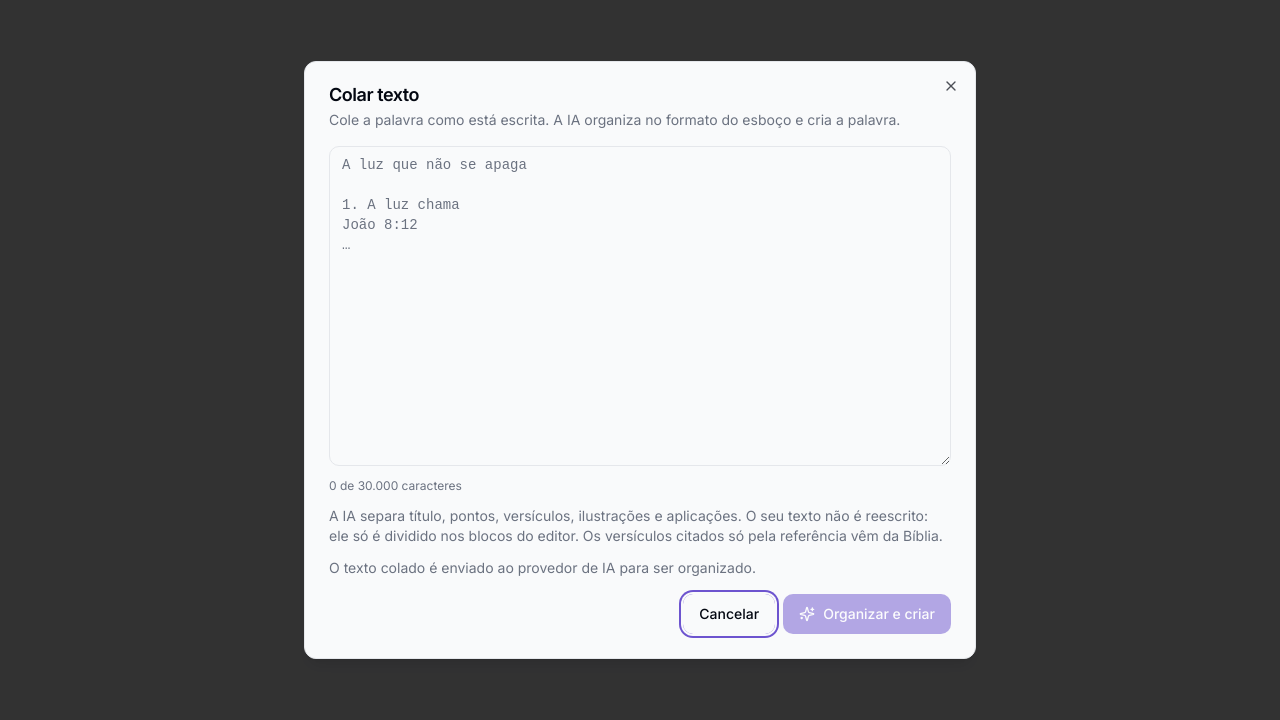
Test: PasteTextDialog › mostra a mensagem do servidor e mantém o texto
This screenshot has width=1280, height=720.
Type "A luz" into the text box named "Texto da palavra" at (640, 306), box x1=329 y1=146 x2=951 y2=466
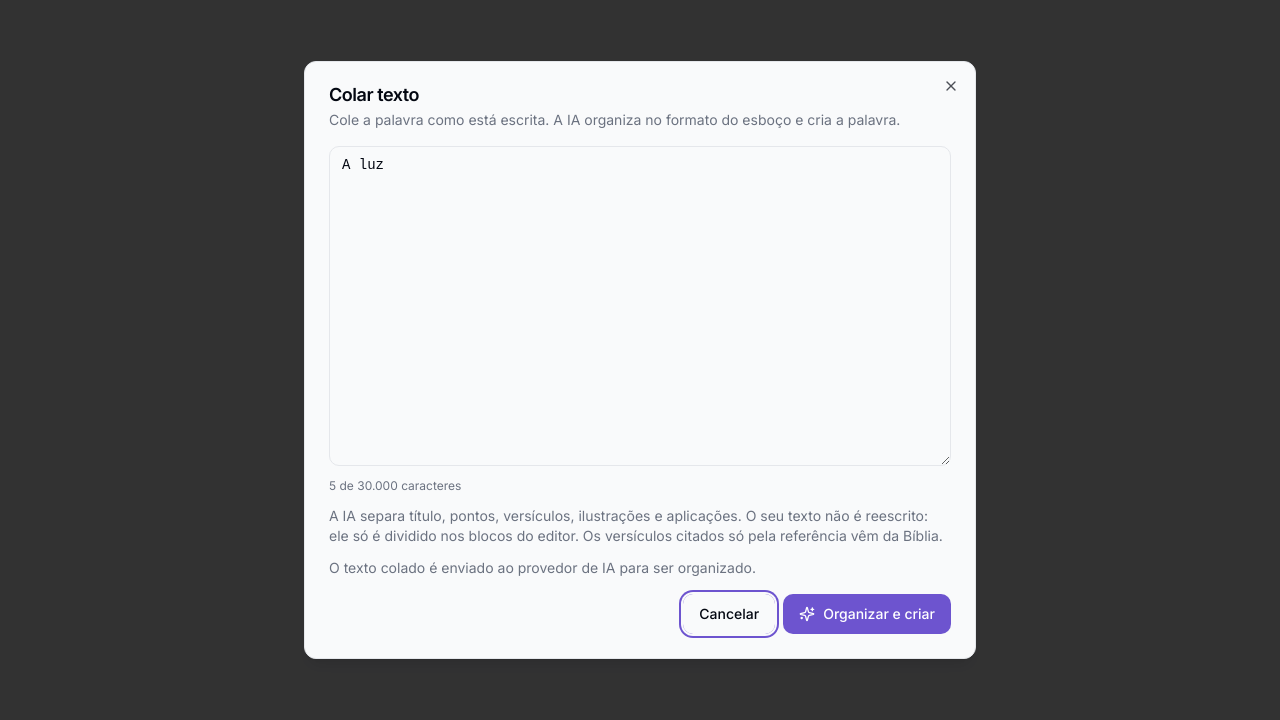
Click the button "Organizar e criar" at (867, 614), box x1=783 y1=594 x2=951 y2=634
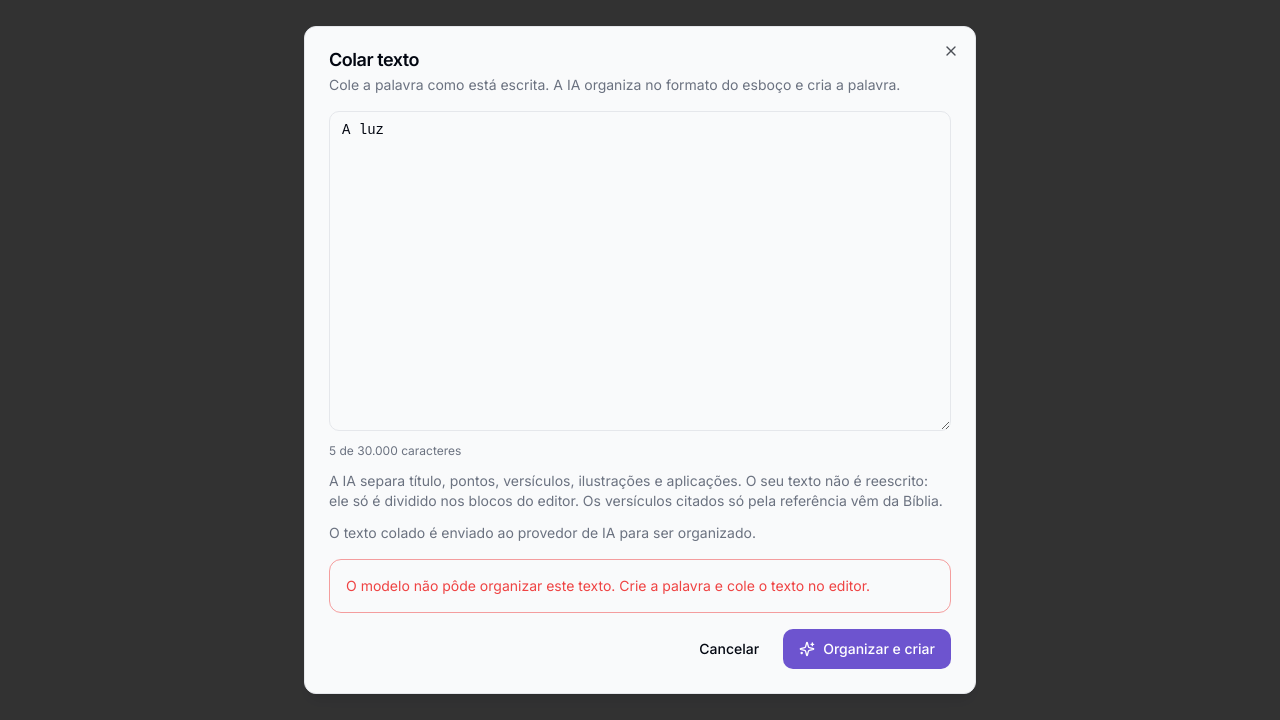
Expected: the text "não pôde organizar este texto" is shown, x1=346 y1=577 x2=870 y2=594
